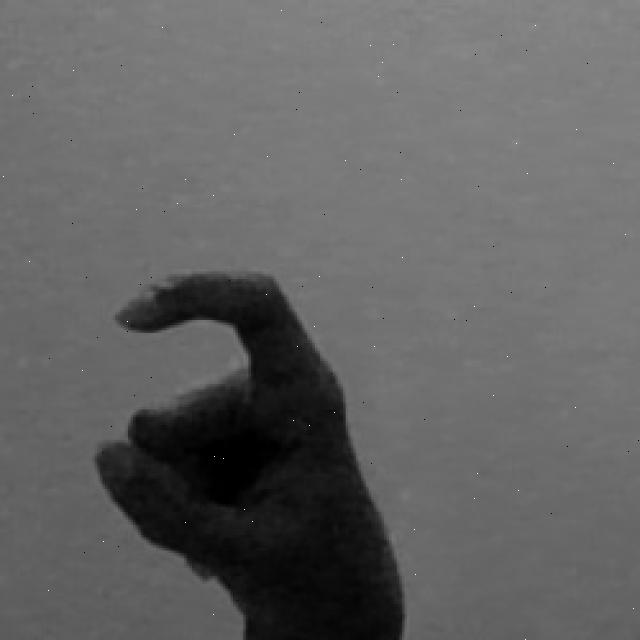X: (89, 263, 409, 640)
